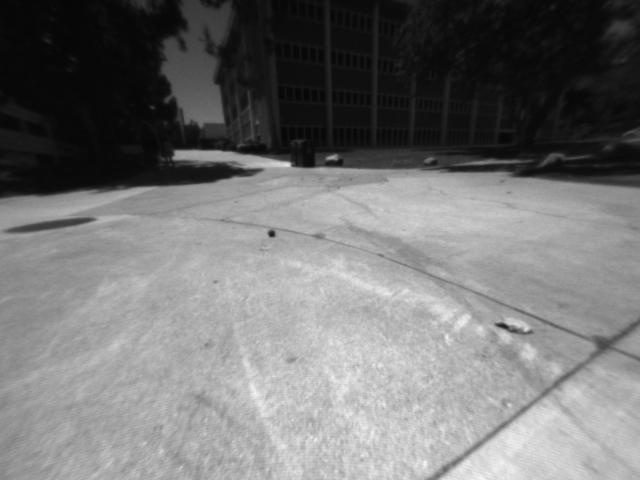dogtoy: (262, 222, 280, 241)
